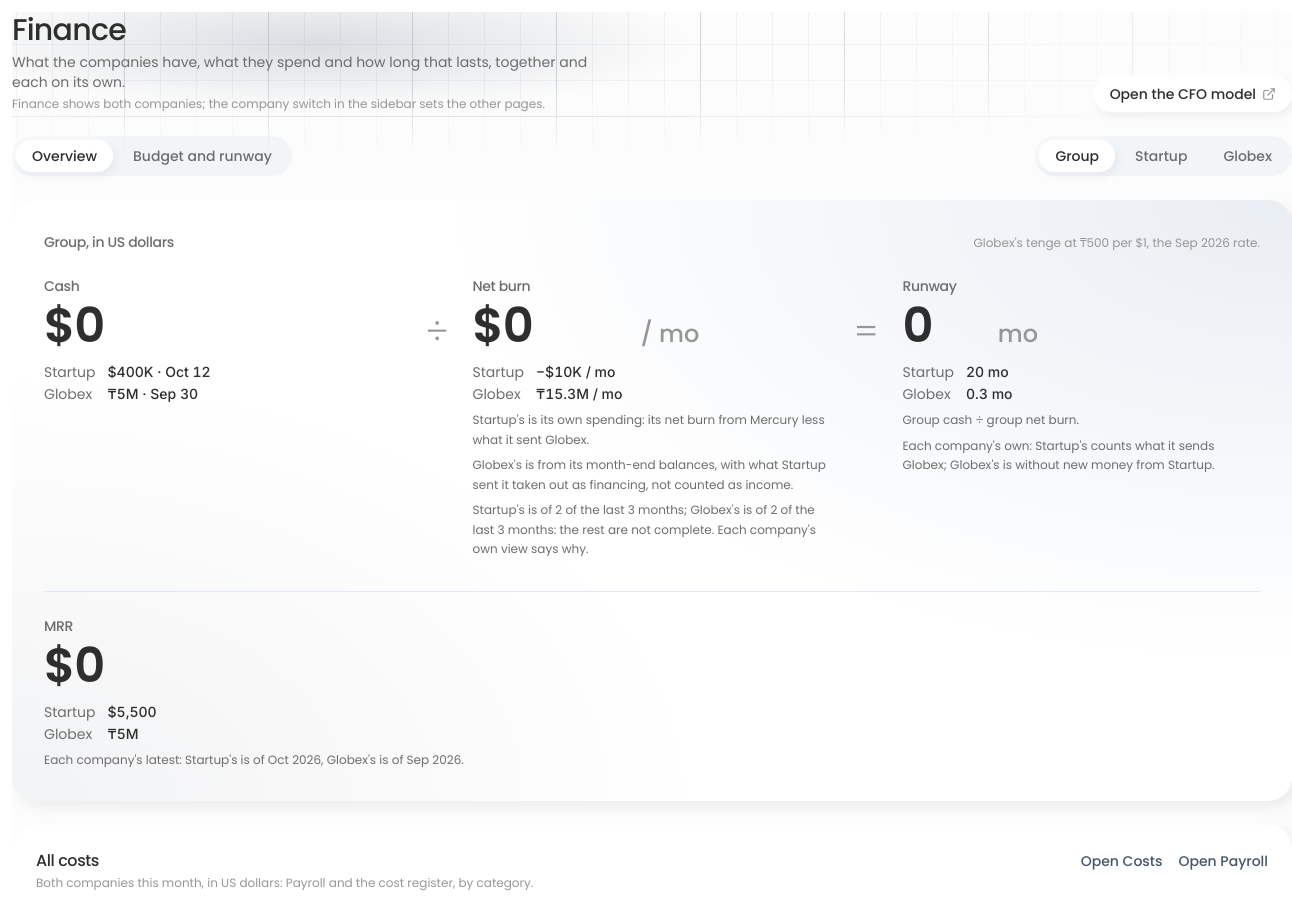
it: the finance page › the CFO model is Startup's: its link is in the group's and Startup's view, not Globex's alone
Click the button "Startup".
click(1161, 156)  # box 1119,140 -> 1203,172
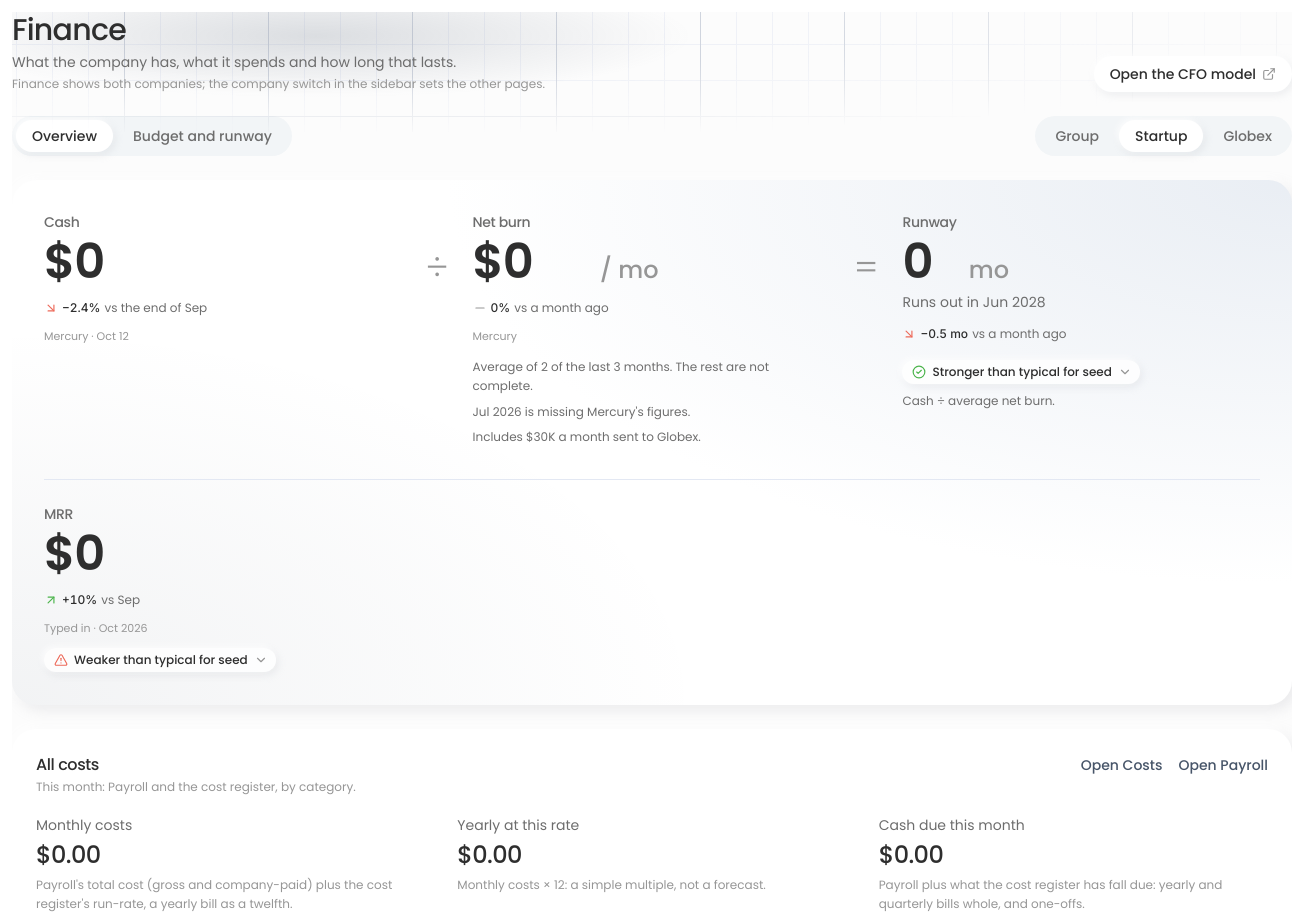
Check: the link "Open the CFO model" is shown, box 1094,56 -> 1291,92
Click the button "Globex".
click(1248, 136)  # box 1207,120 -> 1288,152
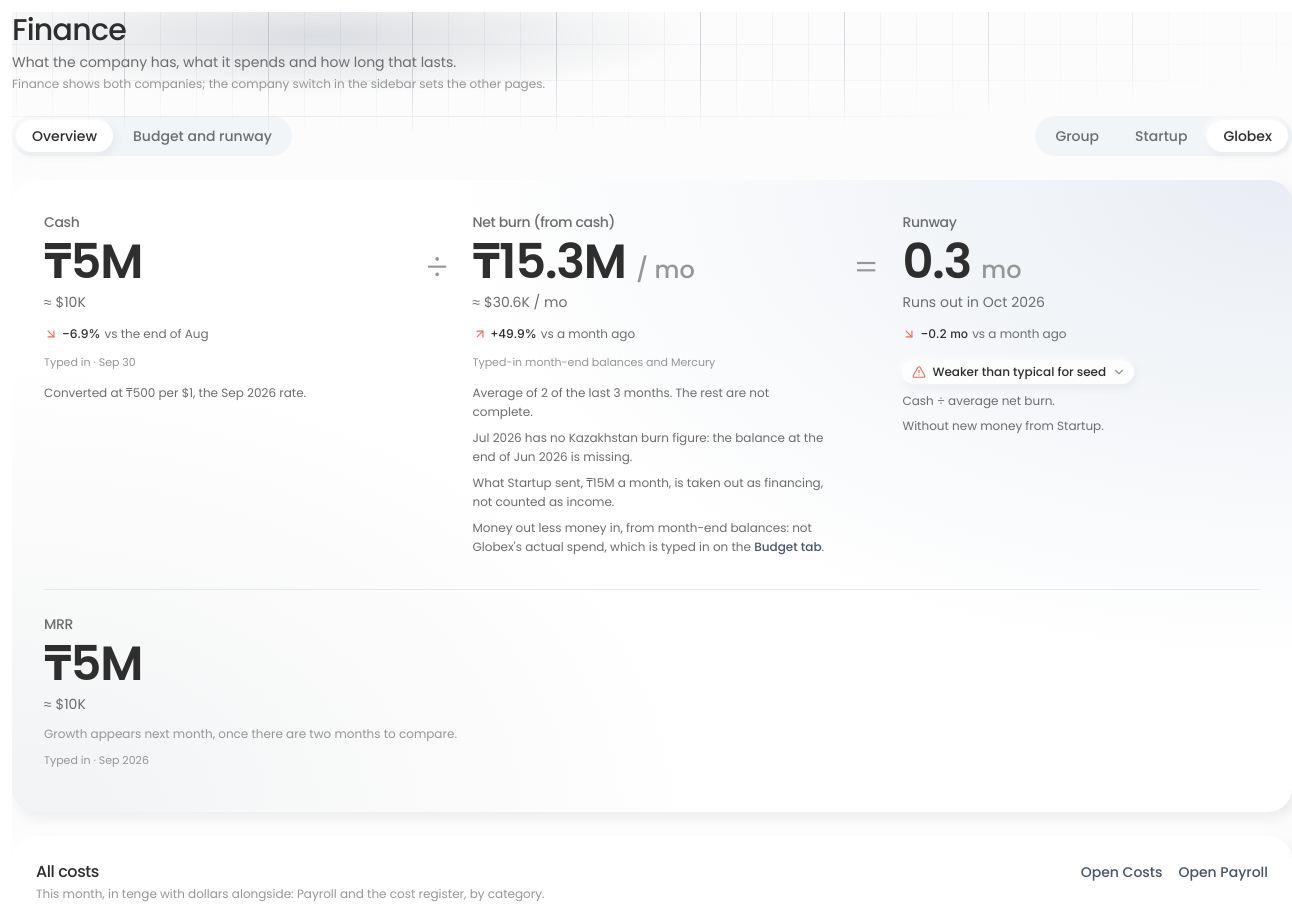
Check: the link "Open the CFO model" is gone
